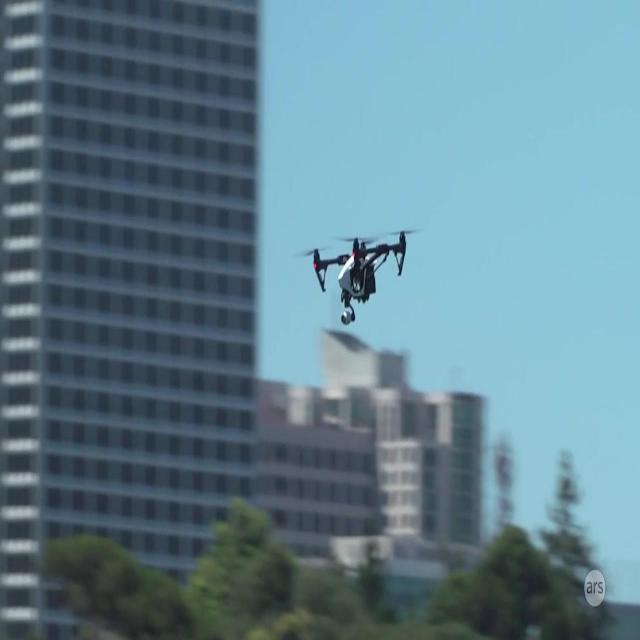UAV: (292, 227, 425, 325)
